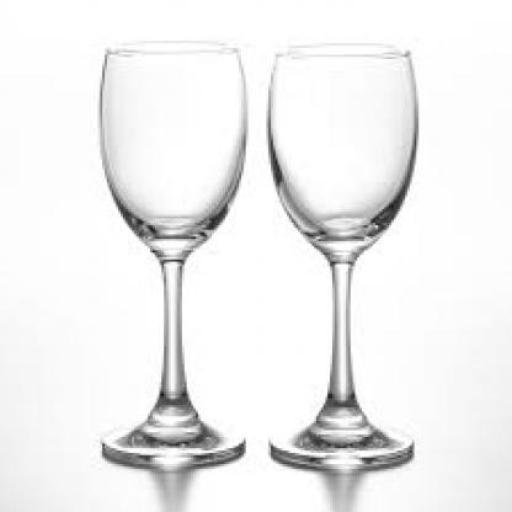glass: (264, 48, 417, 466), (98, 38, 245, 467)
